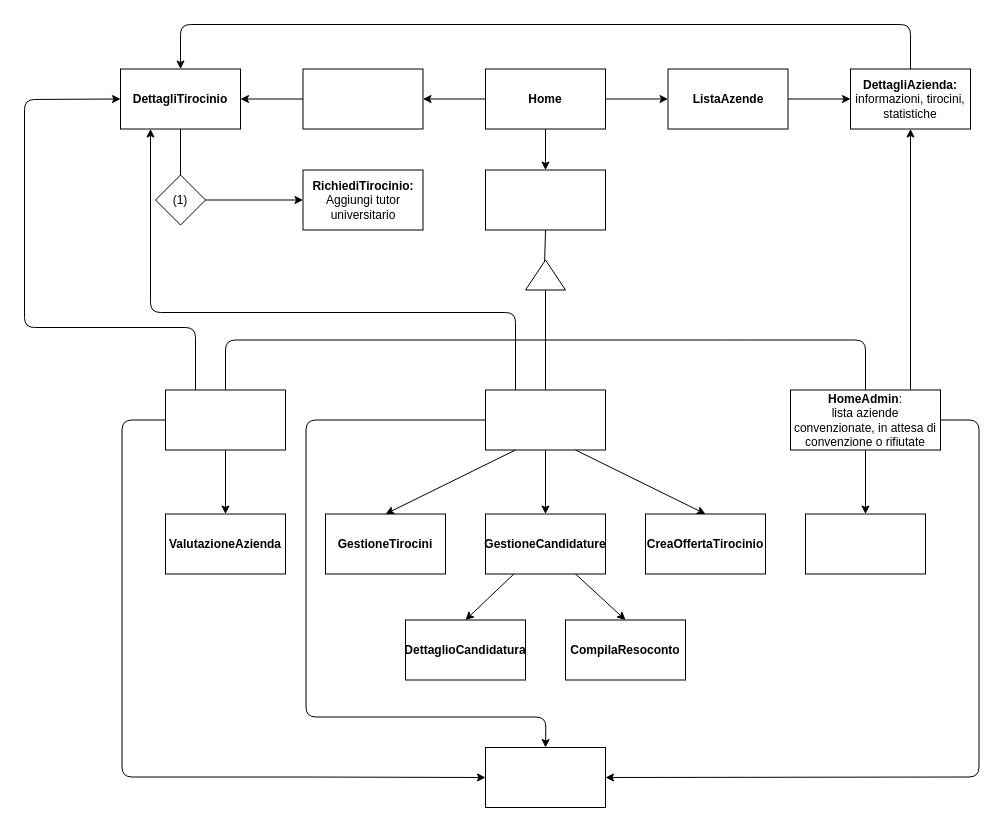
The diagram is 1005 pixels wide and 825 high, and some of its shapes have lost their labels. The shapes that lost their labels are listed below. From the top down, each one's centre as x and y in pixels, then its label:
pixel 362 98: RicercaTirocini
pixel 545 199: Login / Registrazione
pixel 225 419: HomeStudente : lista tirocini attivi, in attesa e conclusi
pixel 545 419: HomeAzienda: lista offerte di tirocinio
pixel 865 543: Statistiche
pixel 545 777: Profilo
